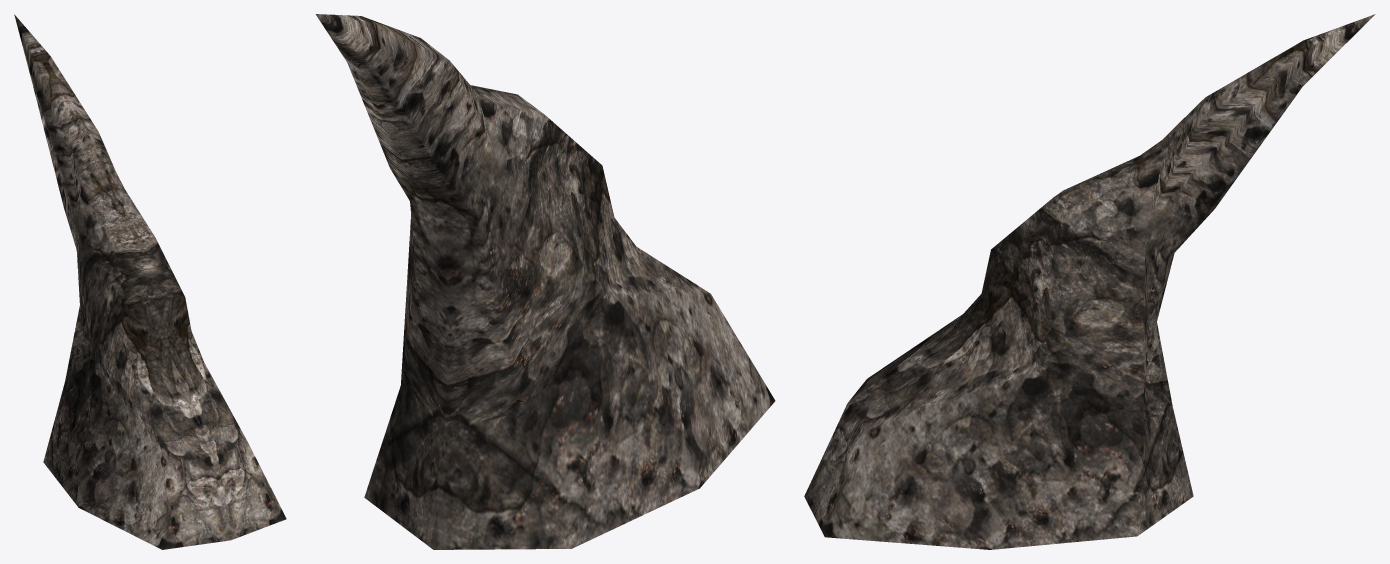
Rendered from Ext_Scortch_01.FBX.
3 views of the same model, side by side, from view 1: azimuth 30°, elevation 25°; view 2: azimuth 150°, elevation 25°; view 3: azimuth 270°, elevation 25° (orthographic). The views are drawn at different scales.
Visible parts, largest first — view 1: Ext_Scortch_01; view 2: Ext_Scortch_01; view 3: Ext_Scortch_01.
Boxes of the visible parts, box(x1,y1,x2,y2) form: Ext_Scortch_01: box(14, 14, 286, 549); Ext_Scortch_01: box(315, 14, 775, 549); Ext_Scortch_01: box(804, 14, 1375, 549).
Size of the model in its own units: 3310 by 7069 by 7583.
